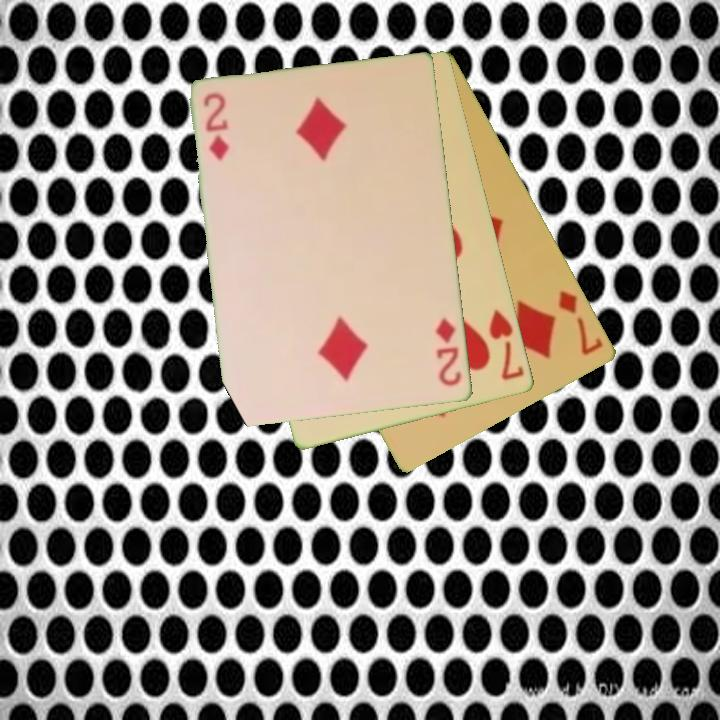2d: (433, 315, 465, 390), (200, 89, 232, 164)
7d: (555, 287, 607, 359)
7h: (486, 306, 528, 384)
